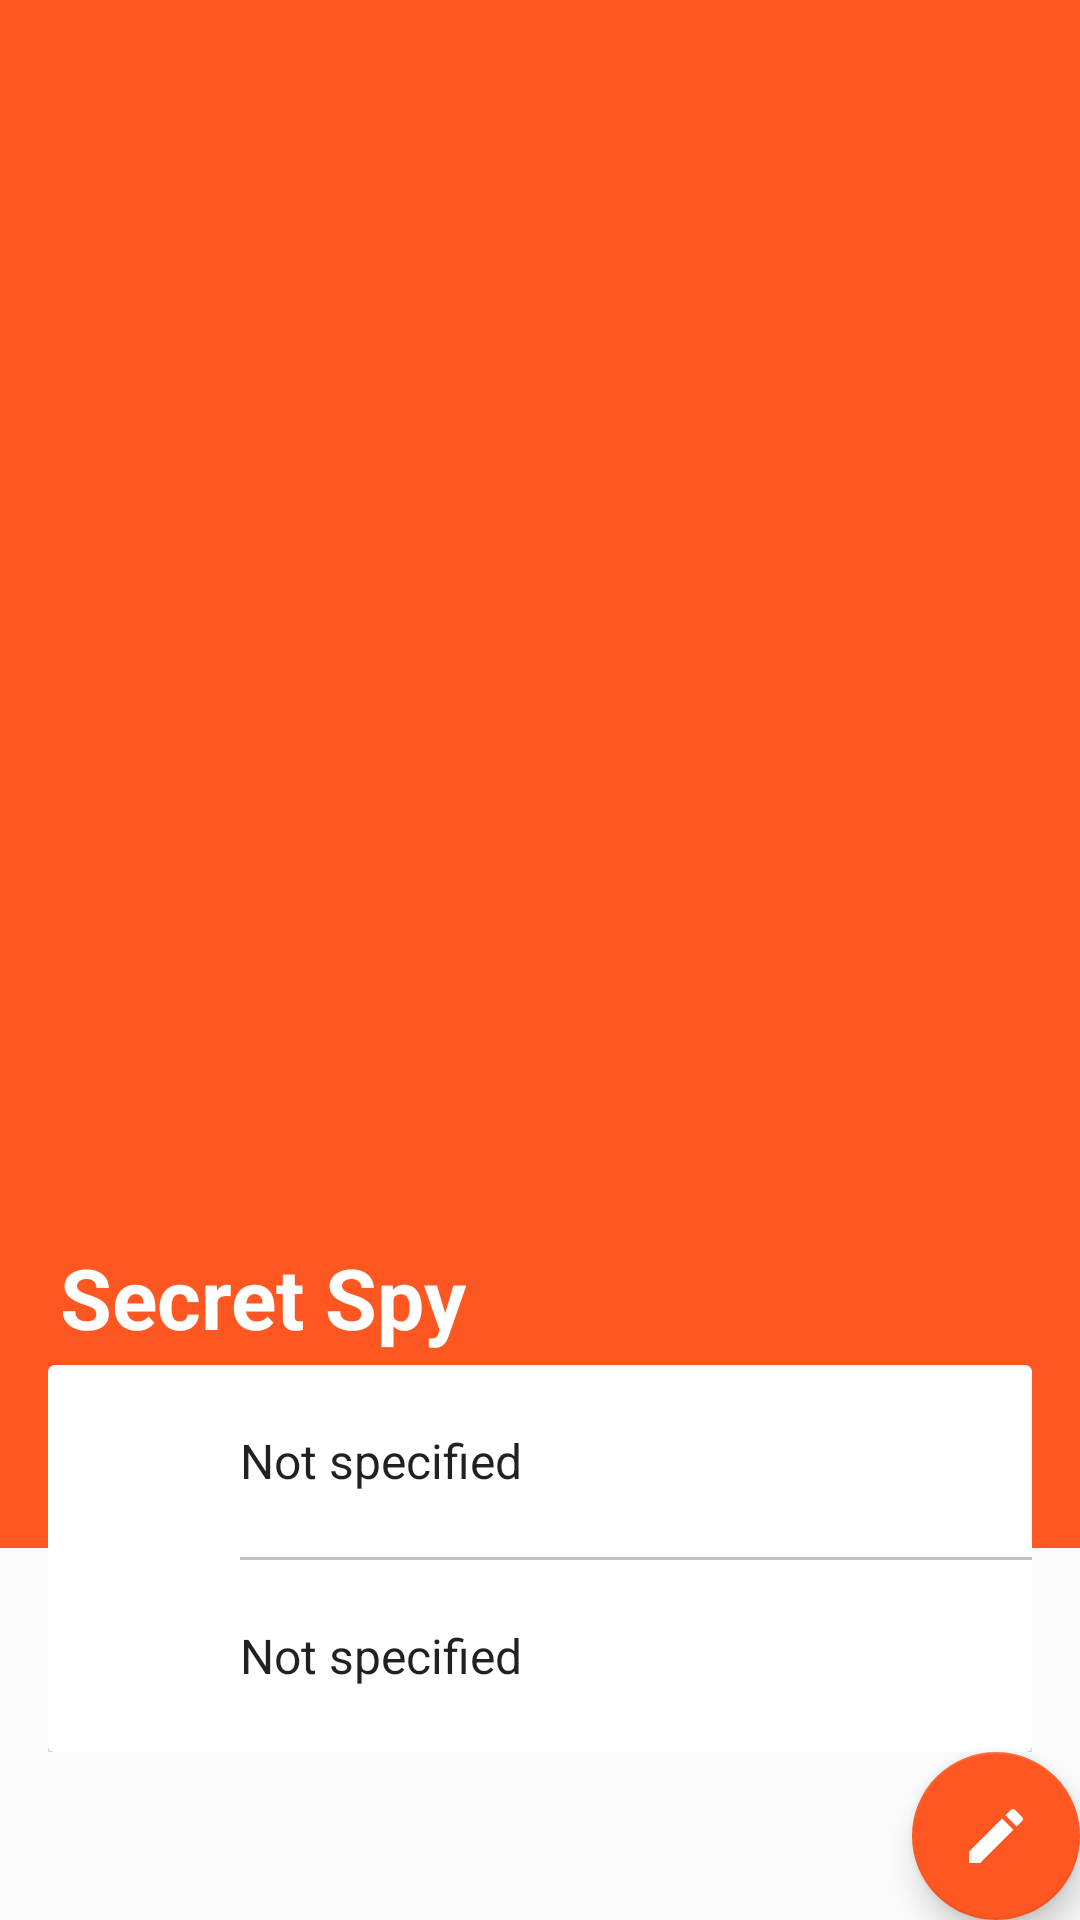

Locate icon controls on the screen. Image size 1080×1920, boxes as (x1, y1, x2, y2).
edit: (912, 1752, 1080, 1920)
